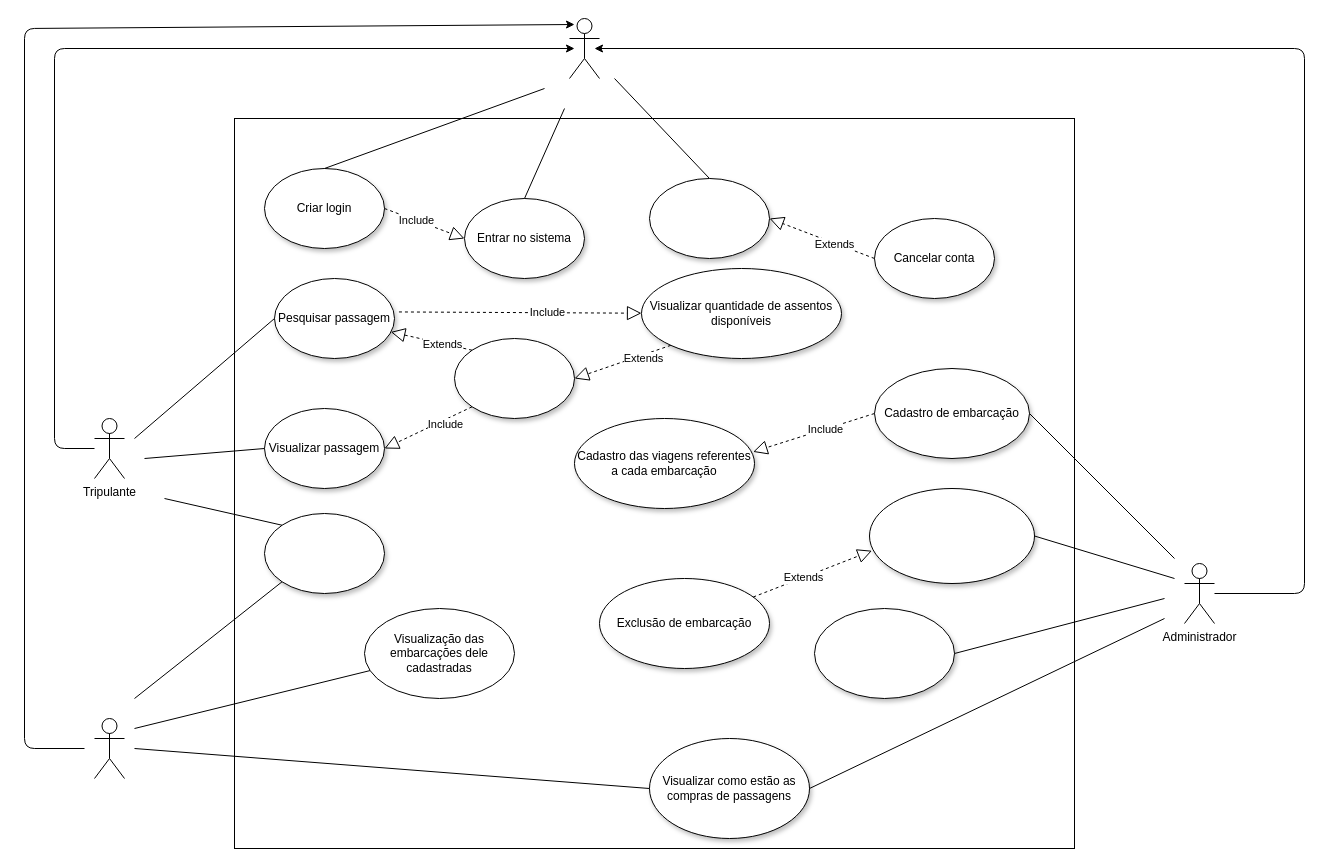
Some shapes in this 1330 by 866 pixel diagram are drawn without their labels. Here are the shapes that lost their labels. From the top down, the centre of each, then its label:
At pixel 584 48: "Usuário".
At pixel 710 220: "Alterar conta".
At pixel 515 380: "Comprar passagem".
At pixel 325 554: "Entrar em contato com o administrador".
At pixel 952 537: "Alteração de cadastro de embarcação".
At pixel 885 655: "Resolução de problemas de usuários clientes".
At pixel 109 748: "Dono da embarcação".
